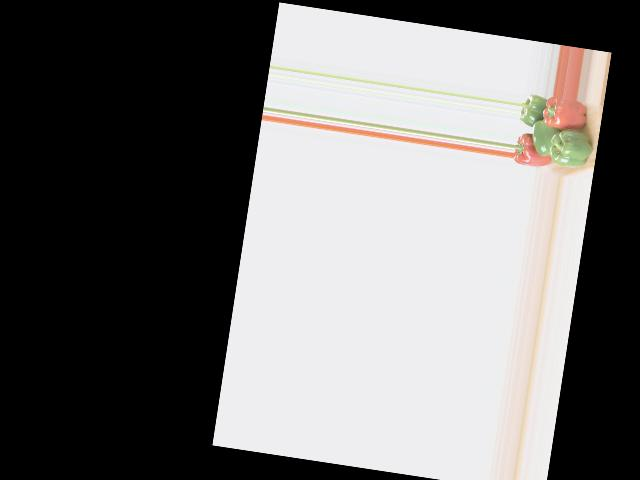bell_pepper: (542, 96, 592, 134)
